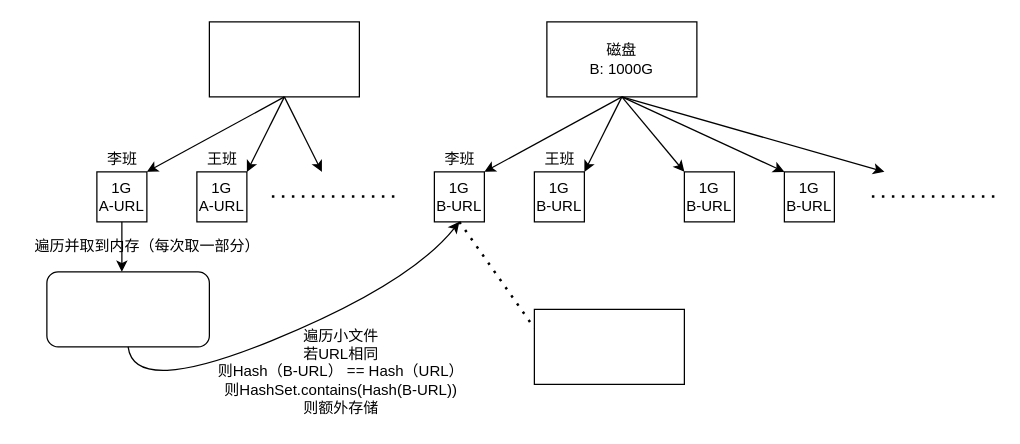
The diagram is 1020 pixels wide and 444 high, and some of its shapes have lost their labels. Each missing label, with the centre of its shape:
"存储相同的URL" belongs at (x=608, y=346).
"磁盘 A: 1000G" belongs at (x=283, y=59).
"结构：HashSet 存储值：Hash(A-URL)" belongs at (x=127, y=309).
